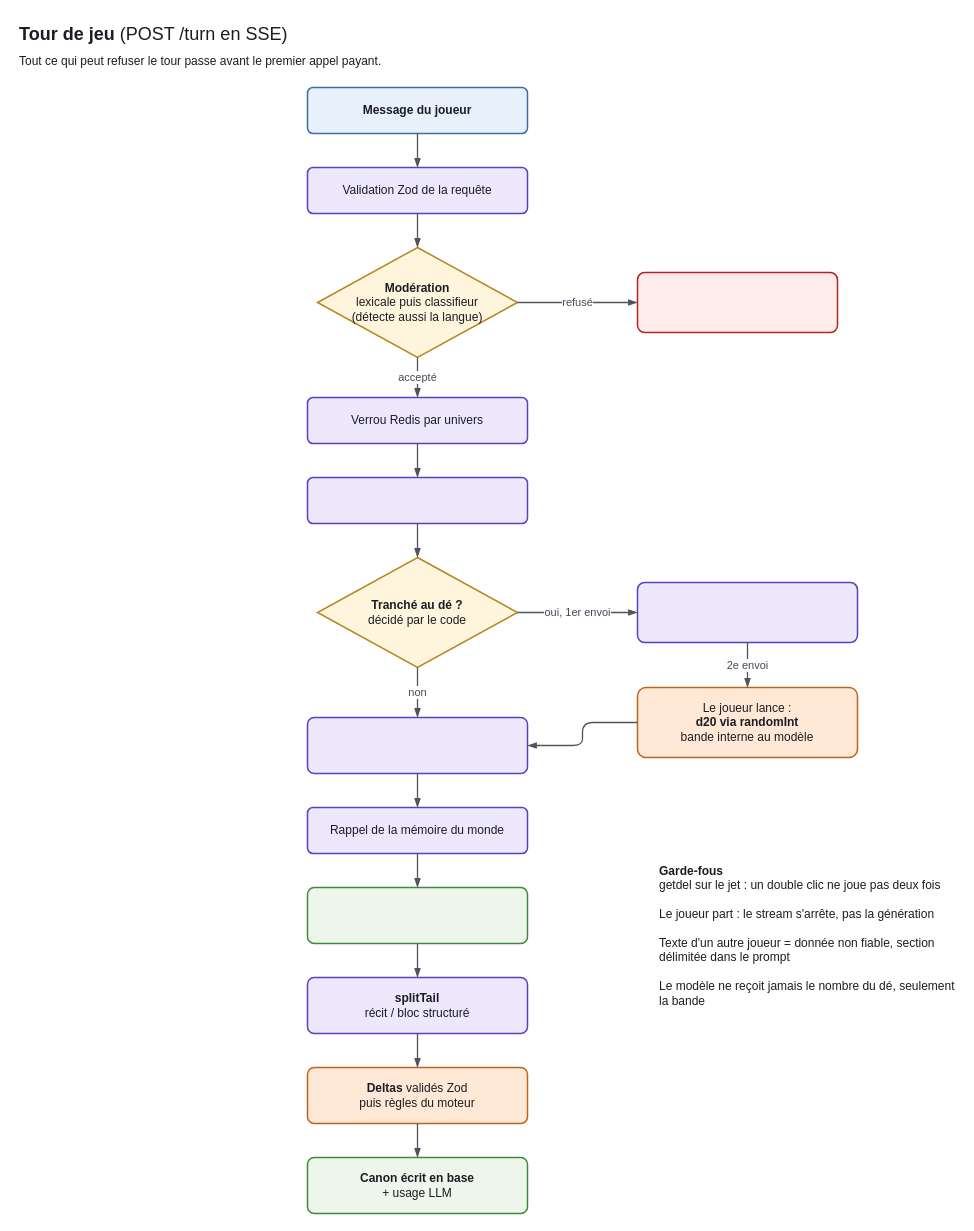
This 974x1231 diagram has some shape labels left out. Each missing label, with the centre of its shape:
422 rien consommé, rien écrit: the point at 737,302
Débit des crédits avant tout appel: the point at 417,745
Limite horaire: the point at 417,500
Prompt MJ versionné streaming SSE via packages/llm: the point at 417,915
roll_required action gardée dans Redis: the point at 747,612
